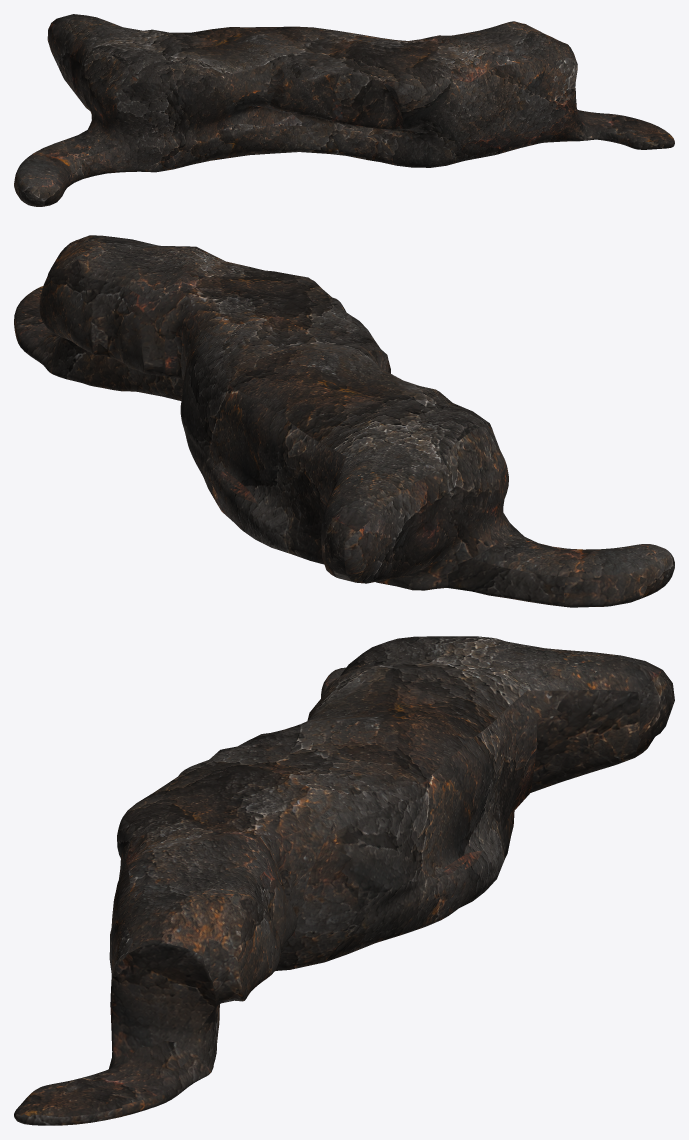
The model's file is cave.fbx.
3 renders of one model, top to bottom at view 1: azimuth 30°, elevation 25°; view 2: azimuth 150°, elevation 25°; view 3: azimuth 270°, elevation 25°, orthographic. The views are drawn at different scales.
Parts seen in each view (by area): view 1: jumpRoomCave; view 2: jumpRoomCave; view 3: jumpRoomCave.
Boxes of the visible parts, <box> form: jumpRoomCave: <box>14,14,674,206</box>; jumpRoomCave: <box>14,235,674,607</box>; jumpRoomCave: <box>14,636,674,1125</box>.
Bounding box in the file's own units: 28514 × 5532 × 18542.
